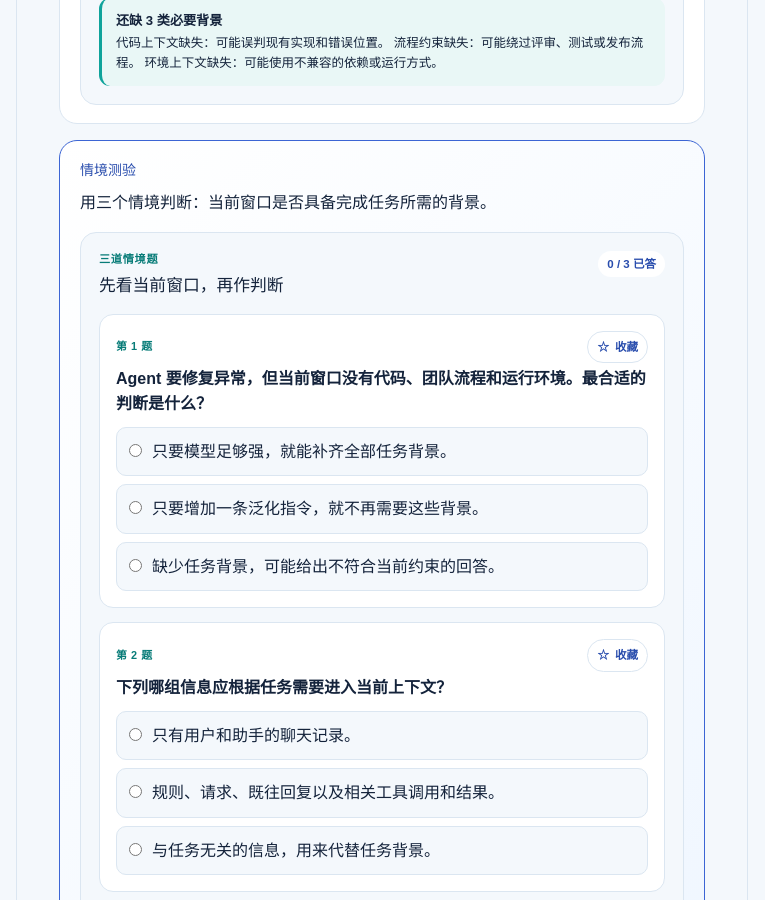
Test: Quiz › gives all three feedback levels after a wrong answer and still continues
(page scrolled)
Step 1. Click the radio button labelled "只要模型足够强，就能补齐全部任务背景。" → (136, 450), box [129,444,142,457]
(page scrolled)
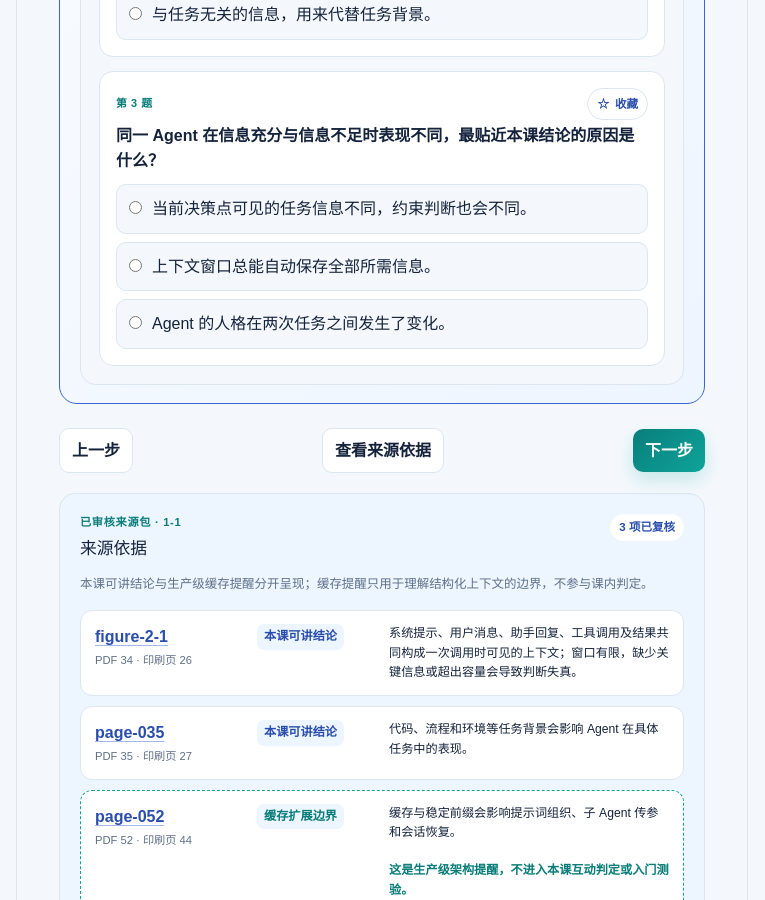
Step 2. Click the button "下一步" → (669, 450), box [633,429,705,472]
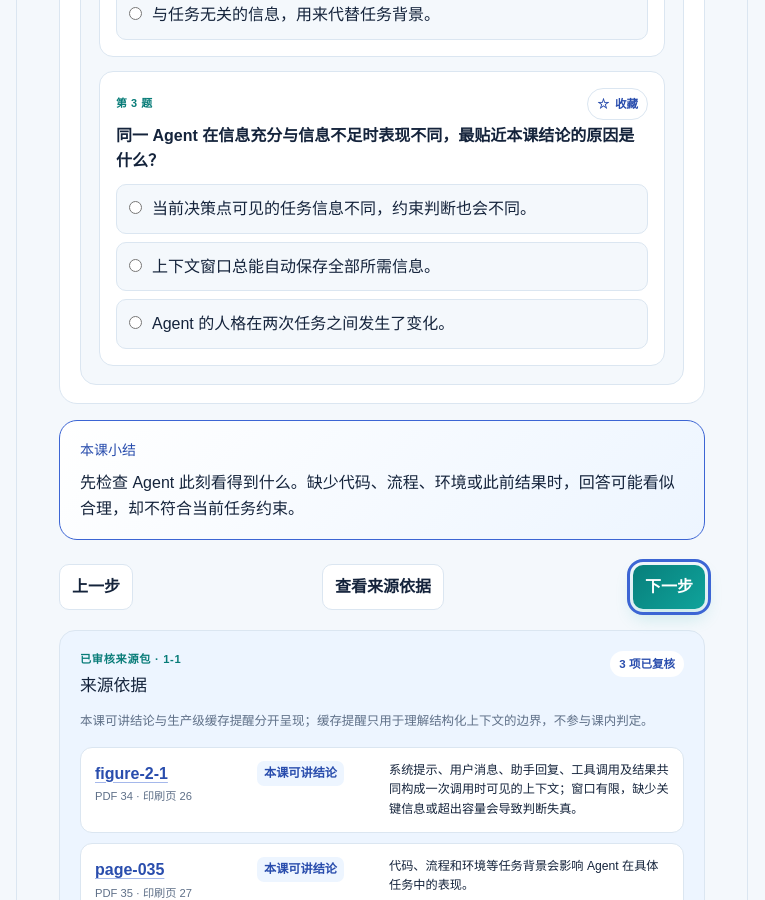
Check: the heading "本课小结" is shown, box [80,442,136,458]
